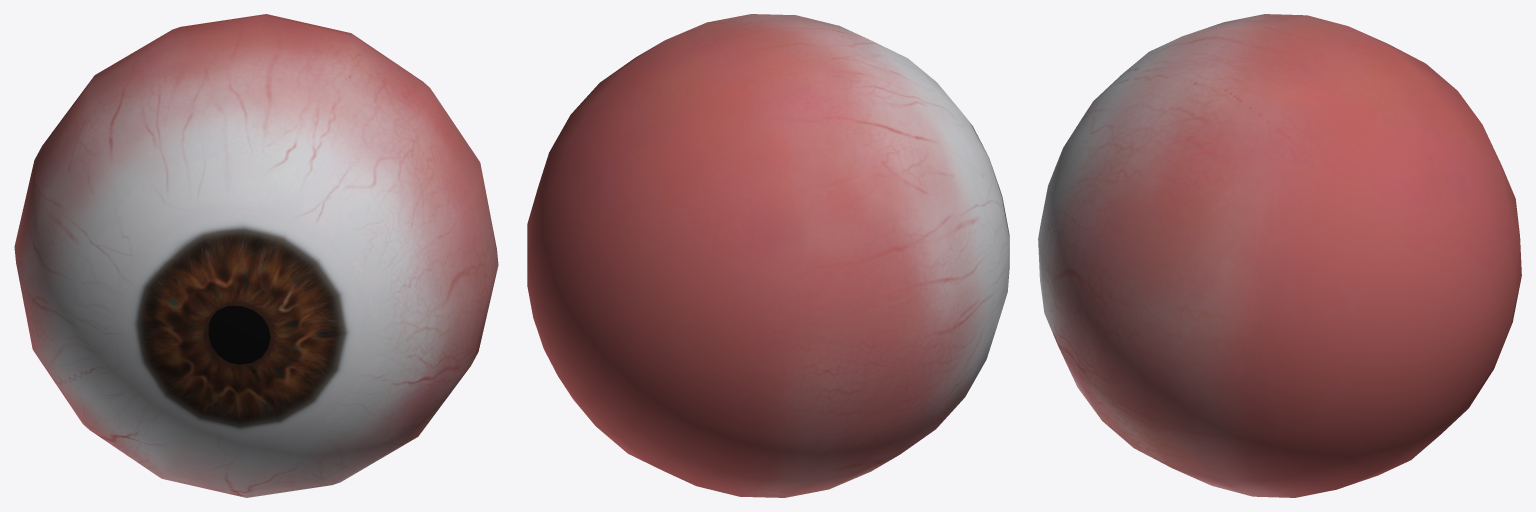
Rendered from Eye R.fbx.
3 renders of one model, left to right at view 1: azimuth 30°, elevation 25°; view 2: azimuth 150°, elevation 25°; view 3: azimuth 270°, elevation 25°, orthographic.
Visible parts, largest first — view 1: Eye R; view 2: Eye R; view 3: Eye R.
Boxes of the visible parts, x1,y1,x2,y2 form: Eye R: (14,14,498,497); Eye R: (527,14,1009,497); Eye R: (1038,14,1521,497).
Size of the model in its own units: 3.74 by 3.73 by 3.74.
Materials: 1 (1 with a texture image).
